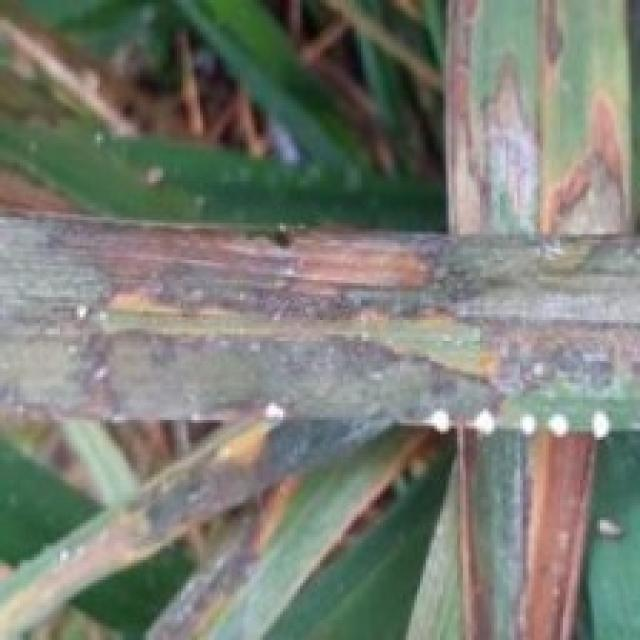Bacterial_Blight: (0, 209, 640, 444), (511, 92, 640, 640)
Rice_Blast: (470, 43, 541, 228), (434, 0, 483, 236), (546, 0, 572, 79)
